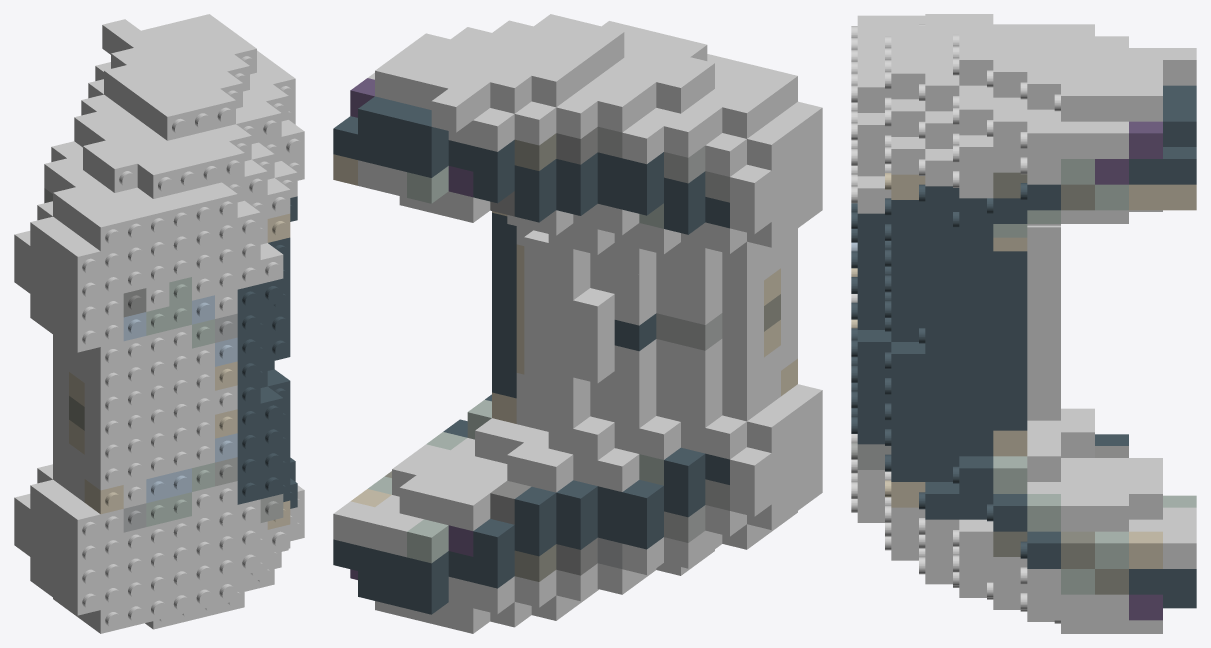
Rendered from full.glb.
The picture shows the model from 3 angles, left to right: view 1: azimuth 30°, elevation 25°; view 2: azimuth 150°, elevation 25°; view 3: azimuth 270°, elevation 25°; orthographic projection. The views are drawn at different scales.
Parts seen in each view (by area): view 1: world; view 2: world; view 3: world.
Part boxes in pixels (<box>): world: <box>14,14,304,633</box>; world: <box>333,14,822,633</box>; world: <box>851,14,1196,633</box>.
Bounding box in the file's own units: 104 × 168 × 97.8.
